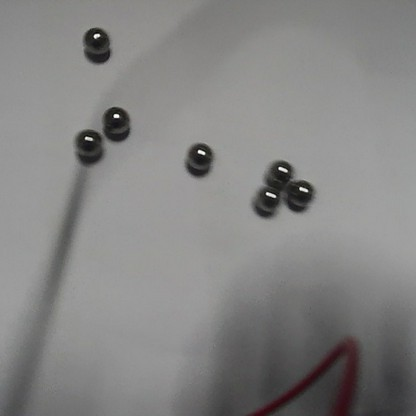ironball: (79, 23, 112, 65), (97, 101, 131, 140), (74, 124, 105, 165), (262, 155, 295, 189), (182, 139, 214, 174), (251, 182, 283, 215), (287, 179, 316, 208)
